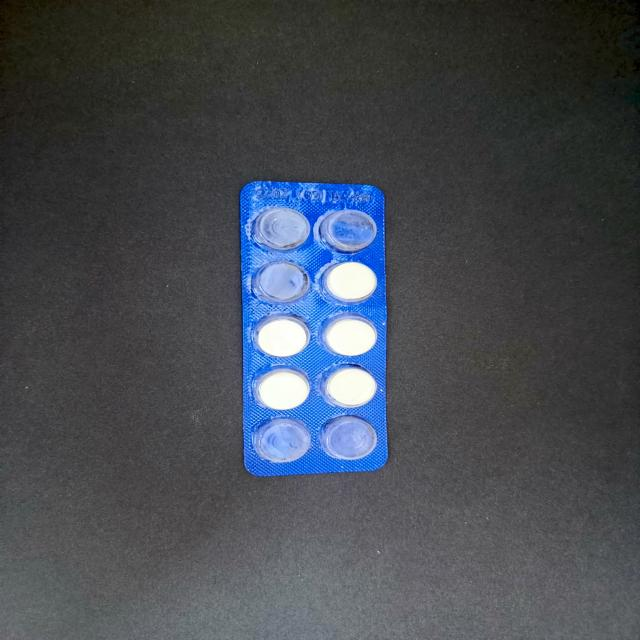defect: (317, 412, 380, 462), (248, 205, 313, 253), (316, 207, 380, 255), (250, 416, 312, 464), (251, 259, 311, 306)
